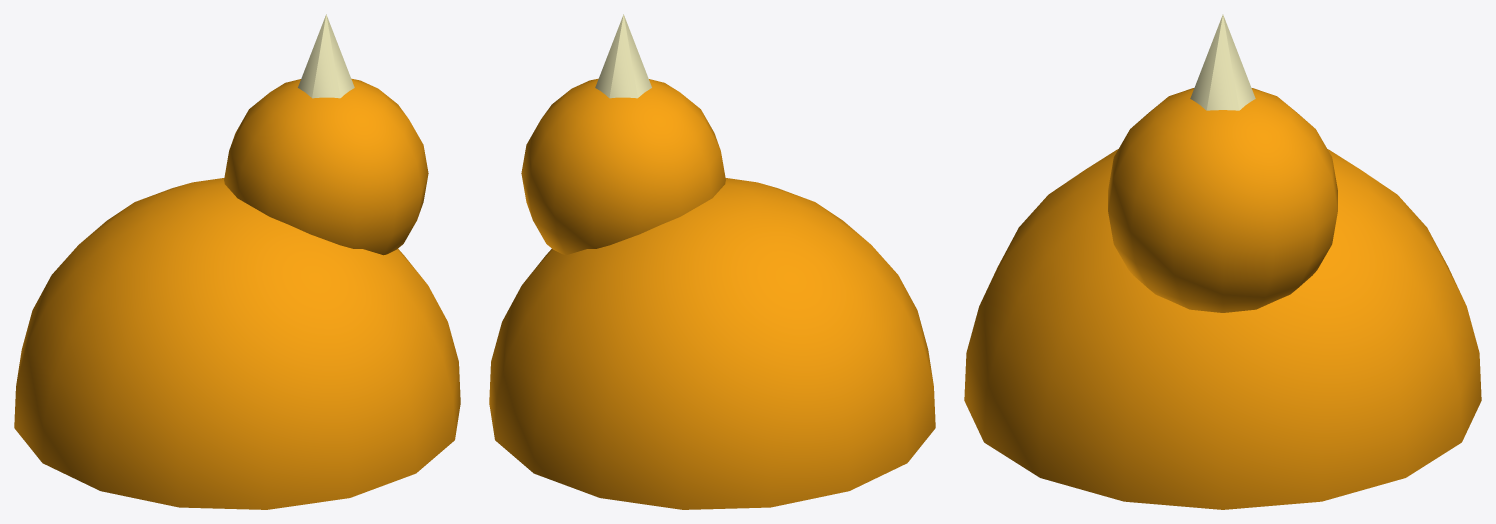
File: creature-heritage.glb
The picture shows the model from 3 angles, left to right: view 1: azimuth 30°, elevation 25°; view 2: azimuth 150°, elevation 25°; view 3: azimuth 270°, elevation 25°; orthographic projection. The views are drawn at different scales.
Bounding box in the file's own units: 0.8783 × 0.8176 × 0.8783.
